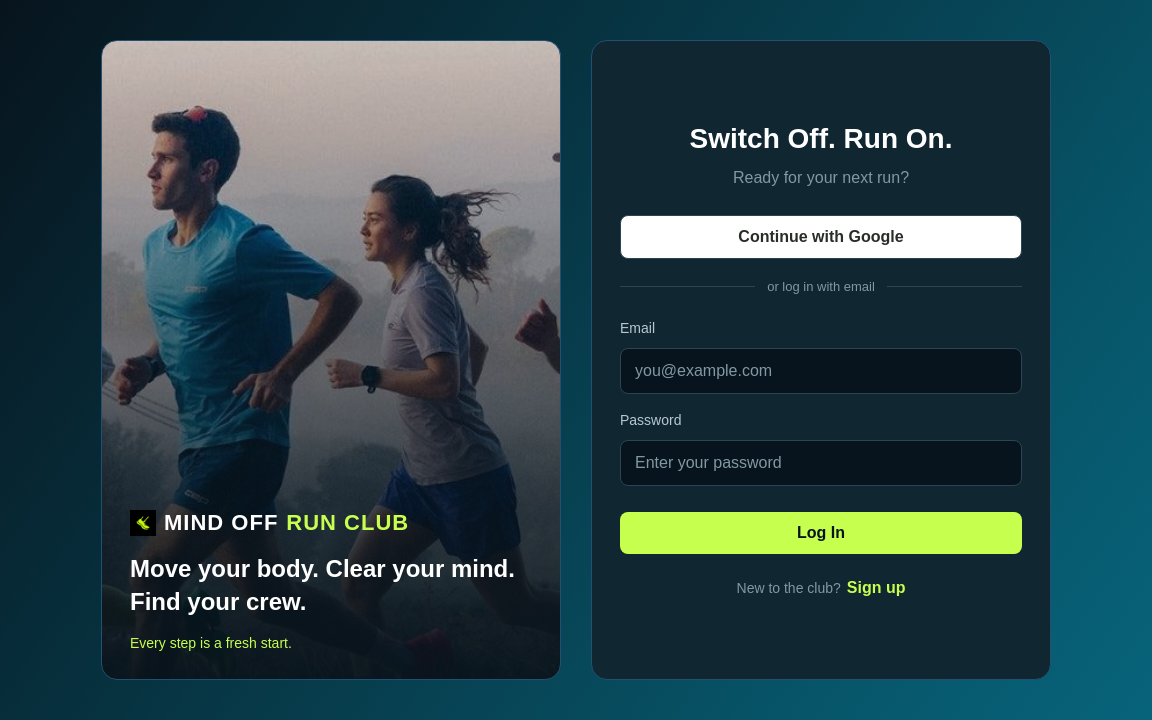
Test case: Login component › shows an error when Supabase returns no access token
Type "runner@example.com" into the field labelled "Email" at (821, 371), box [620,348,1022,394]
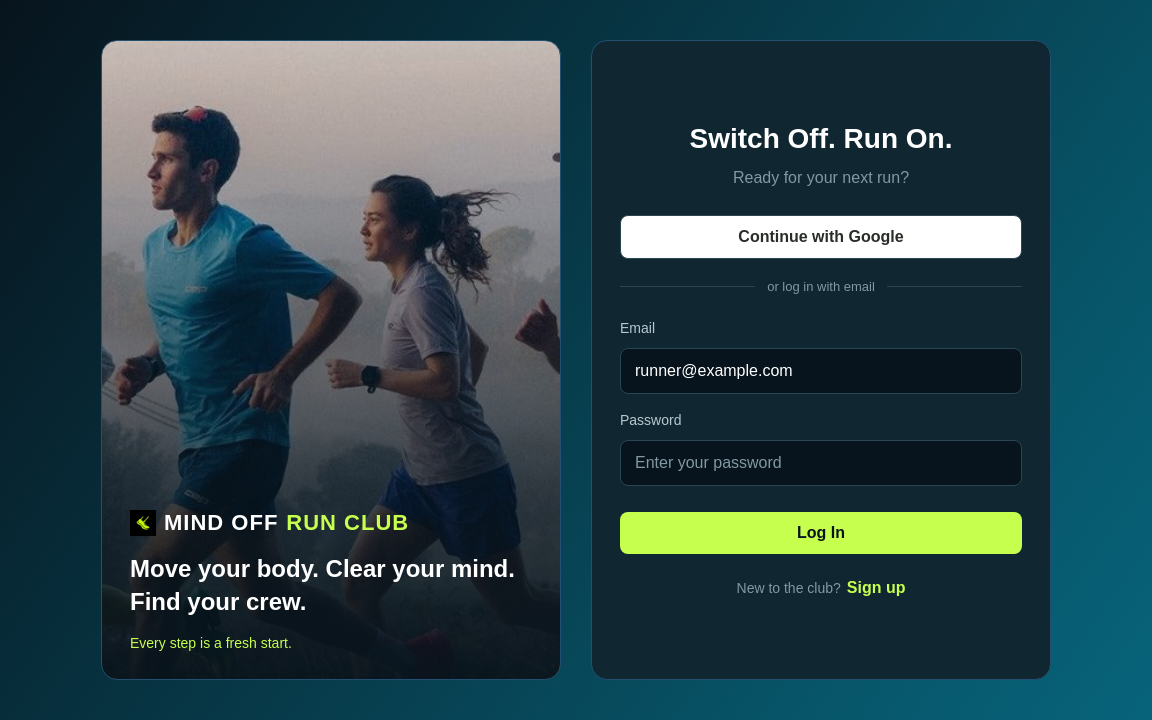
Type "password123" into the password field labelled "Password" at (821, 463), box [620,440,1022,486]
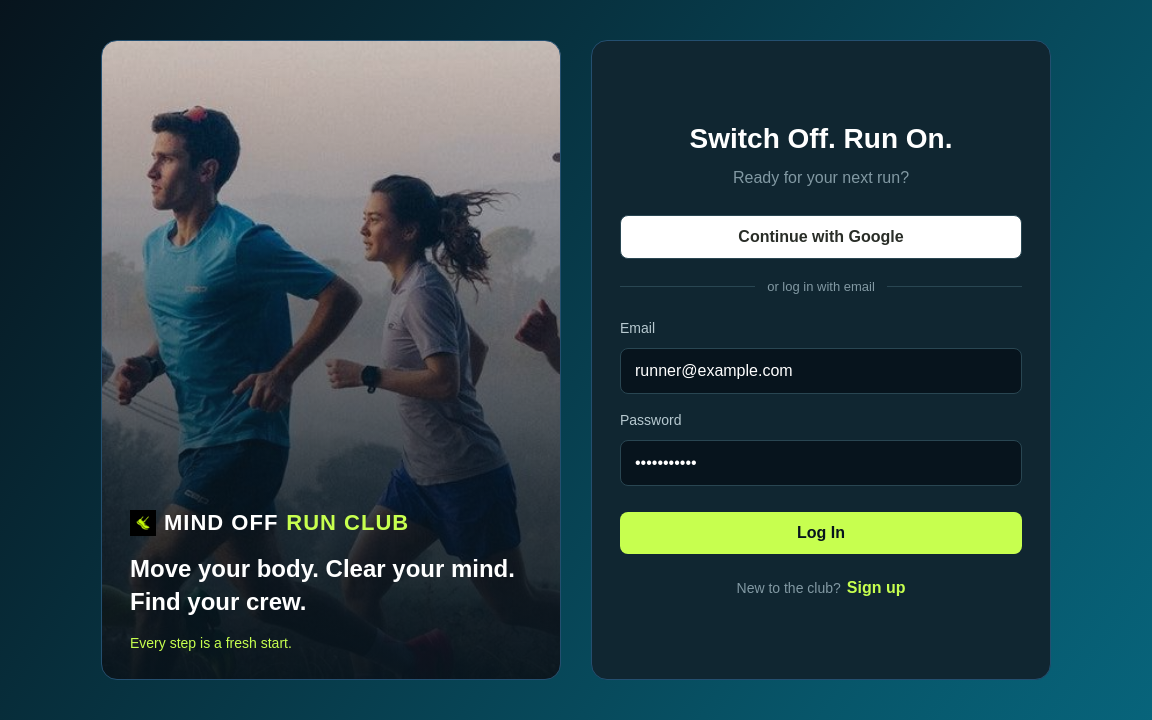
Click the button "Log In" at (821, 533), box [620,512,1022,554]
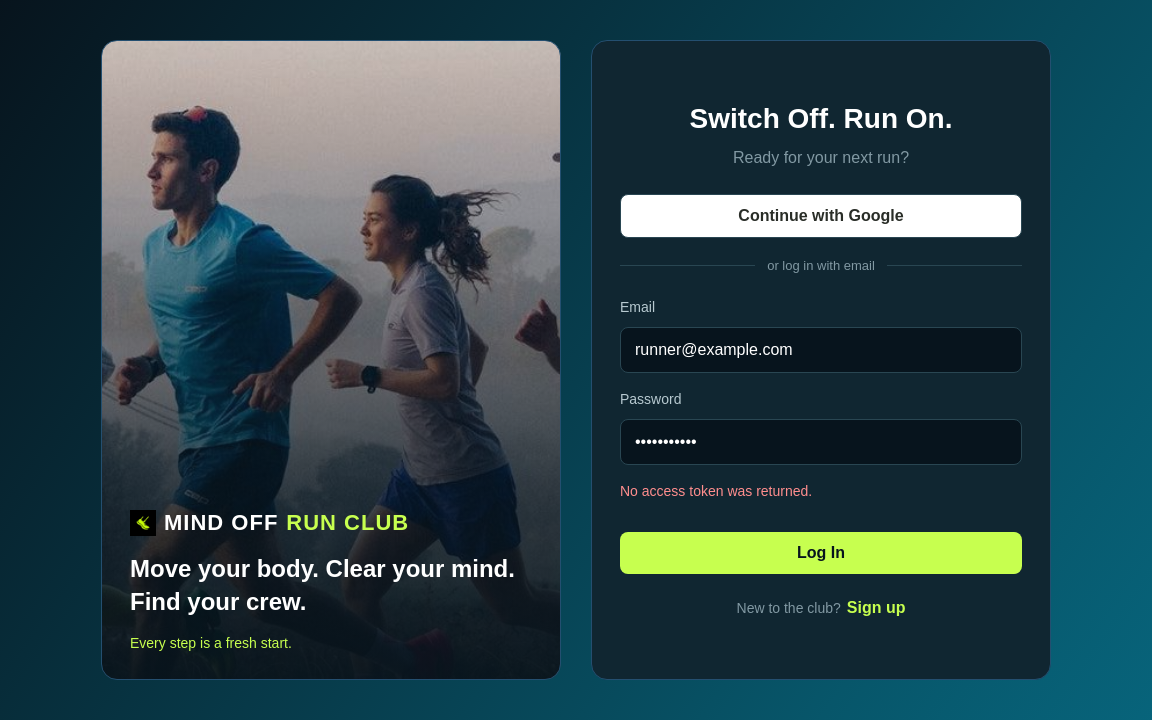
Check: the message reads "No access token was returned.", box [620,483,812,499]
